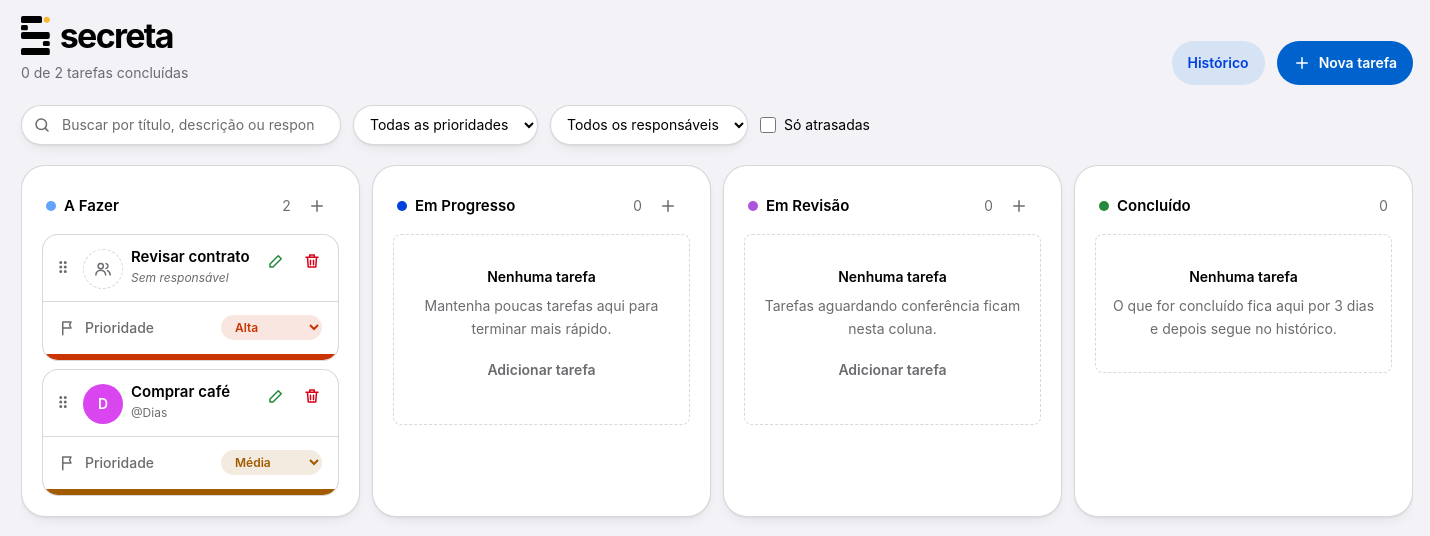
it: App › busca por título e por sobrenome do responsável
Check: the heading "Comprar café" is shown, box [131,382,230,401]
Type "contrato" into the search field named "Buscar tarefas". click: (181, 125)
box: [21,105,341,145]
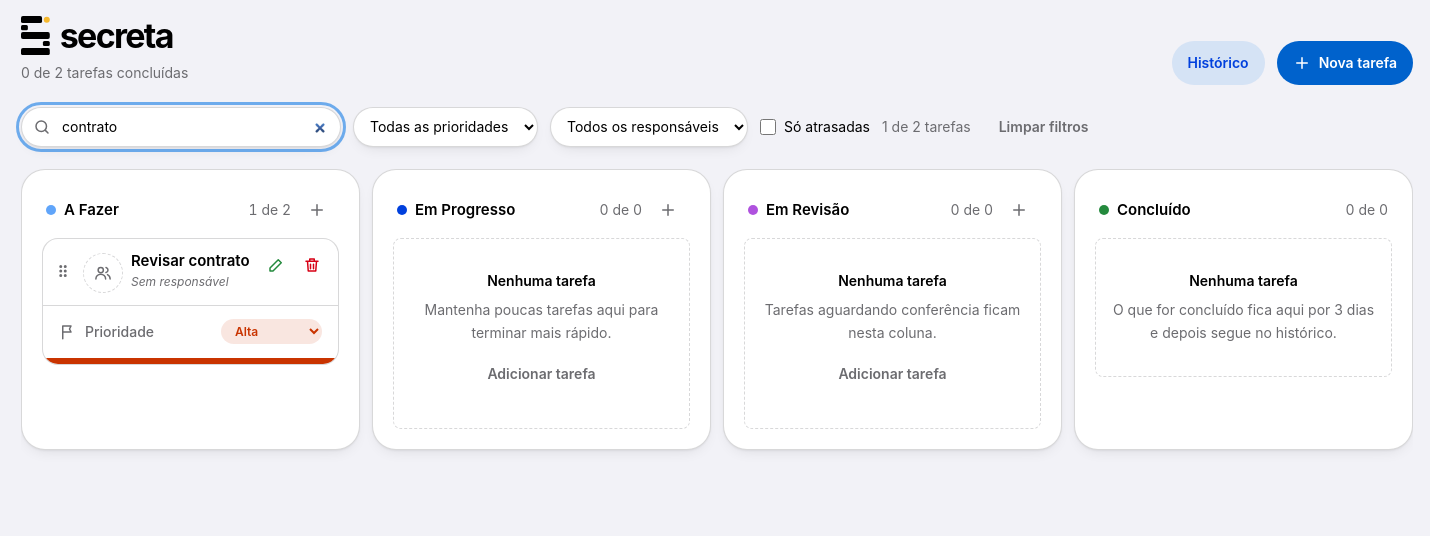
Check: the heading "Revisar contrato" is shown, box [131,251,250,272]
Check: the heading "Comprar café" is gone
Click the button "Limpar filtros". click: click(1044, 127)
box: [983,105,1104,149]
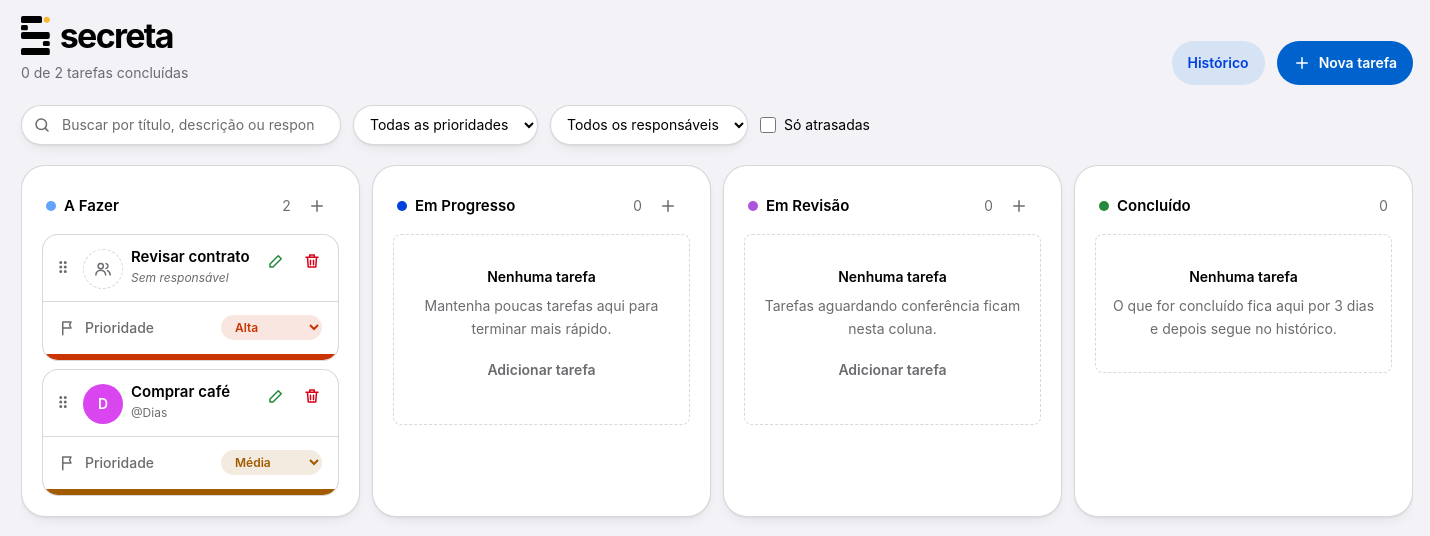
Type "dias" into the search field named "Buscar tarefas". click: (181, 125)
box: [21,105,341,145]
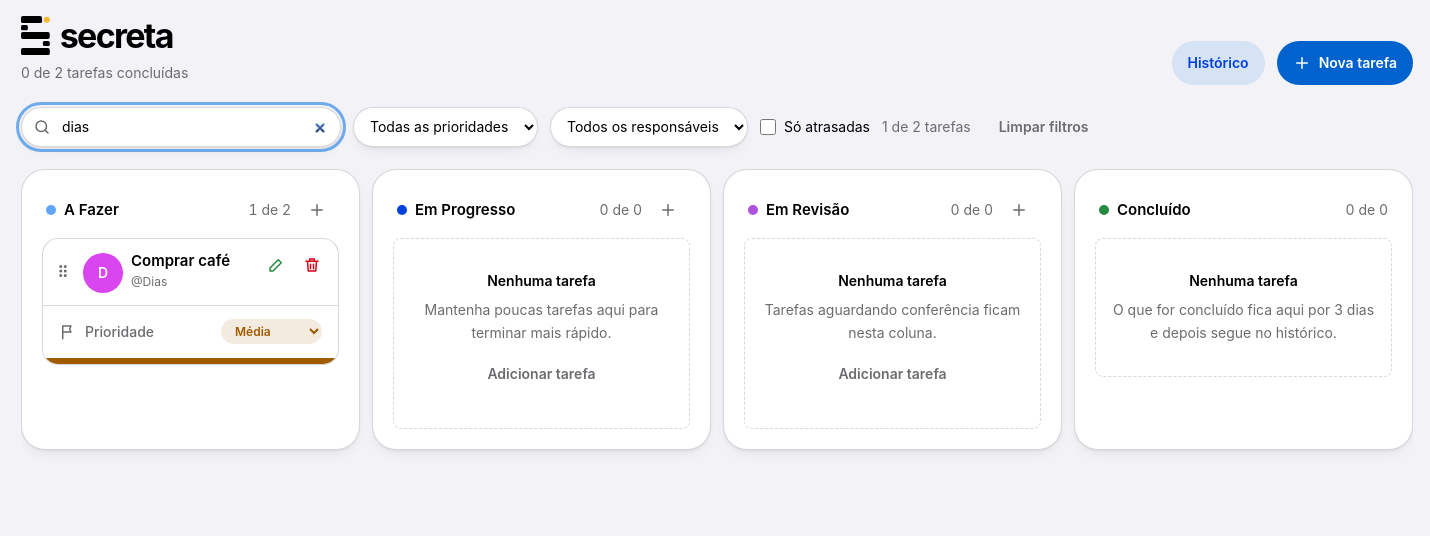
Check: the heading "Comprar café" is shown, box [131,251,230,270]
Check: the heading "Revisar contrato" is gone
